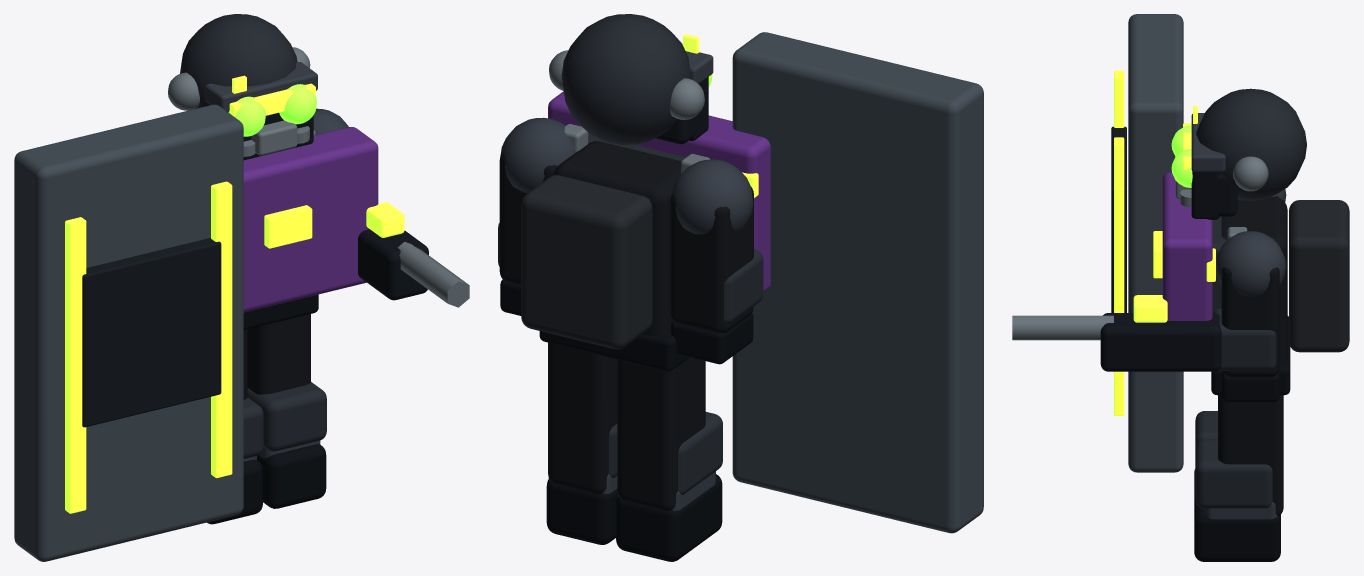
File: guardian_l01.glb
3 renders of one model, left to right at view 1: azimuth 30°, elevation 25°; view 2: azimuth 150°, elevation 25°; view 3: azimuth 270°, elevation 25°, orthographic. The views are drawn at different scales.
Visible parts, largest first — view 1: barrier_body, barrier_centre, heavy_chest, barrier_power_strip (×2), rounded_helmet, shaped_knee_guard (×2), boot (×2), trouser, heavy_carbine, heavy_barrel, helmet_brow, guardian_rank (+8 smaller); view 2: barrier_body, field_pack, trouser (×2), rounded_helmet, sleeve (×2), boot (×2), shoulder_joint (×2), body, heavy_chest, glove (×2), belt, shaped_knee_guard (+4 smaller); view 3: barrier_body, field_pack, rounded_helmet, heavy_carbine, heavy_chest, trouser, shaped_knee_guard (×2), boot, sleeve, shoulder_joint, barrier_power_strip (×2), body (+14 smaller).
Part boxes in pixels (box(x1,y1,x2,y2)): barrier_body: box(14, 104, 243, 561); barrier_centre: box(82, 238, 221, 427); heavy_chest: box(243, 127, 378, 312); barrier_power_strip (×2): box(65, 181, 232, 513); rounded_helmet: box(180, 14, 297, 108); shaped_knee_guard (×2): box(243, 382, 326, 458); boot (×2): box(207, 444, 326, 524); trouser: box(247, 314, 310, 394); heavy_carbine: box(358, 229, 428, 300); heavy_barrel: box(397, 241, 469, 307); helmet_brow: box(205, 62, 317, 111); guardian_rank: box(264, 205, 312, 248); barrier_body: box(732, 32, 983, 533); field_pack: box(521, 175, 652, 349); trouser (×2): box(548, 342, 705, 511); rounded_helmet: box(561, 14, 691, 144); sleeve (×2): box(499, 152, 753, 332); boot (×2): box(546, 474, 722, 561); shoulder_joint (×2): box(500, 117, 753, 234); body: box(554, 141, 681, 335); heavy_chest: box(548, 91, 770, 292); glove (×2): box(500, 279, 753, 364); belt: box(539, 331, 689, 371); shaped_knee_guard: box(678, 412, 722, 494); barrier_body: box(1128, 14, 1183, 472); field_pack: box(1289, 200, 1349, 352); rounded_helmet: box(1196, 88, 1306, 200); heavy_carbine: box(1100, 313, 1221, 371); heavy_chest: box(1162, 172, 1212, 320); trouser: box(1218, 395, 1283, 515); shaped_knee_guard (×2): box(1195, 411, 1272, 508); boot: box(1194, 498, 1280, 561); sleeve: box(1221, 267, 1279, 377); shoulder_joint: box(1216, 231, 1286, 296); barrier_power_strip (×2): box(1114, 70, 1124, 415); body: box(1221, 197, 1287, 363).
Size of the model in its own units: 1.55 by 1.86 by 1.28.
